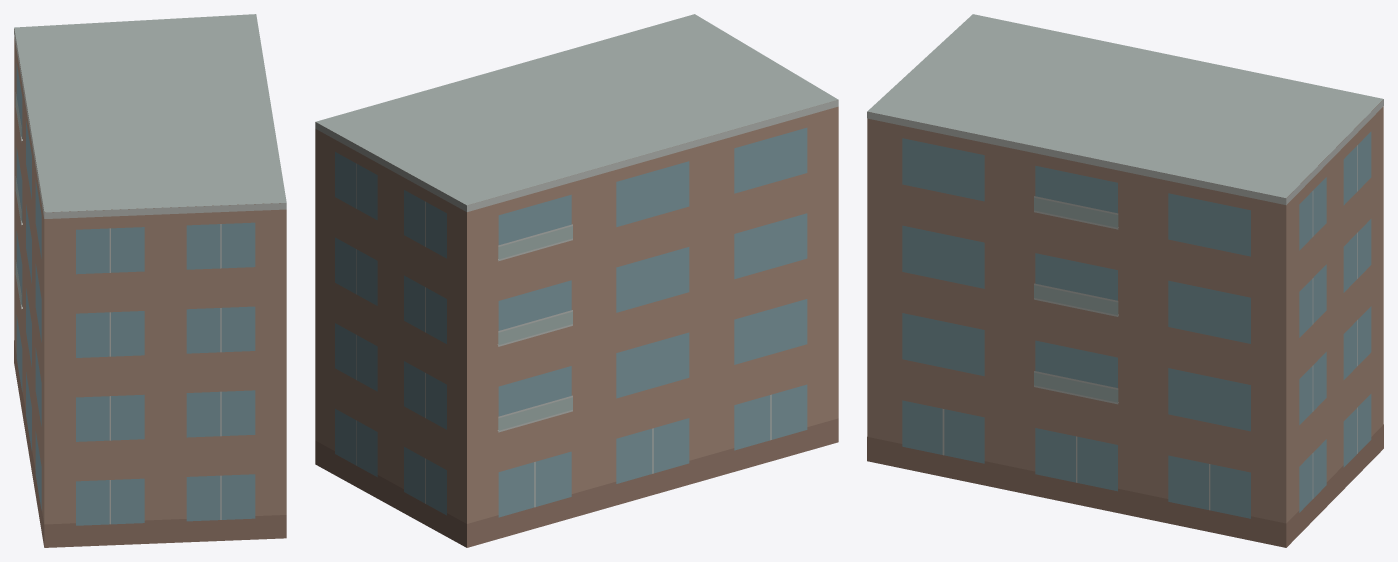
File: survey-upis-32671559.glb
3 views of the same model, side by side, from view 1: azimuth 30°, elevation 25°; view 2: azimuth 150°, elevation 25°; view 3: azimuth 270°, elevation 25° (orthographic). The views are drawn at different scales.
Visible parts, largest first — view 1: survey-upis-32671559.tmp; view 2: survey-upis-32671559.tmp; view 3: survey-upis-32671559.tmp.
Part boxes in pixels (x1=…): survey-upis-32671559.tmp: x1=14, y1=14, x2=286, y2=547; survey-upis-32671559.tmp: x1=315, y1=14, x2=838, y2=547; survey-upis-32671559.tmp: x1=867, y1=14, x2=1383, y2=547.
Bounding box in the file's own units: 13.8 × 12.2 × 16.35.
